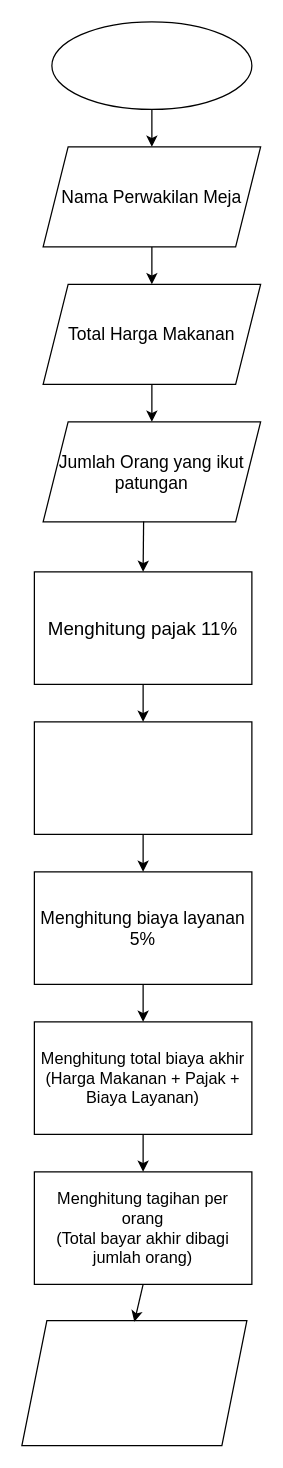
Some shapes in this 283 by 1468 pixel diagram are drawn without their labels. Here are the shapes that lost their labels. From the top down, the centre of each, then its label:
At pixel 151 65: "Mulai".
At pixel 142 777: "Menghitung total harga".
At pixel 134 1382: "Menampilkan hasil Nama perwakilan Total biaya akhir Tagihan per orang".
